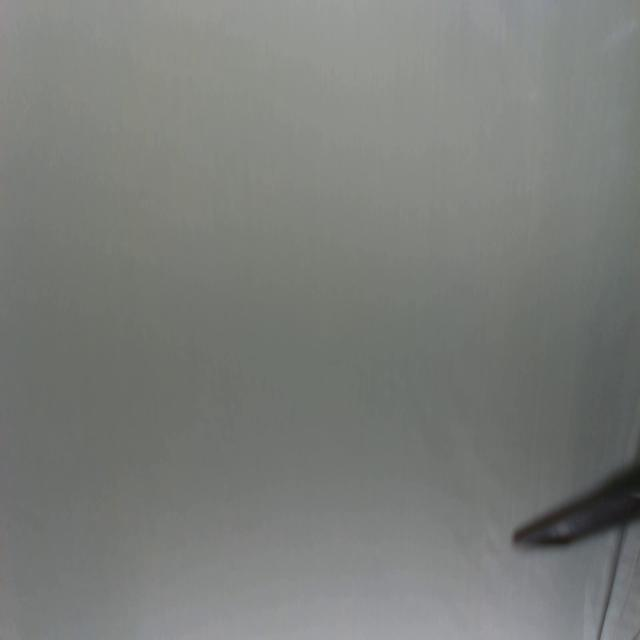crease: (596, 530, 627, 640)
